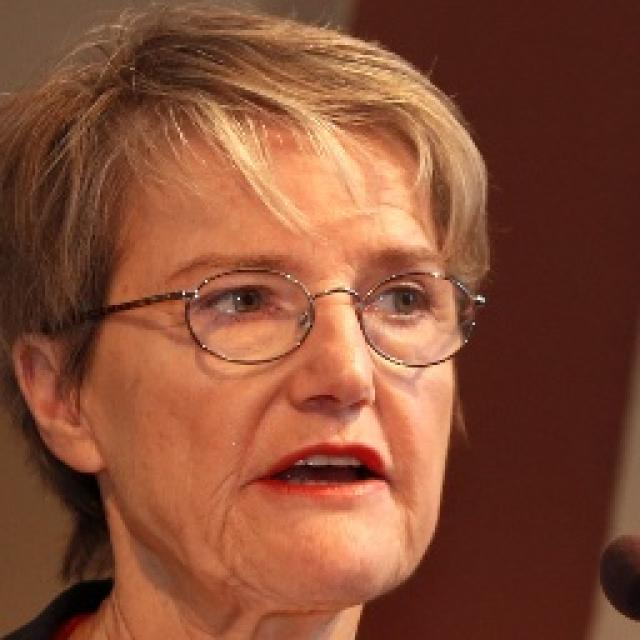earlobe: (60, 421, 108, 477)
eye: (201, 284, 277, 319), (361, 286, 426, 318)
nose: (286, 389, 396, 449)
wholeear: (11, 329, 108, 477)
